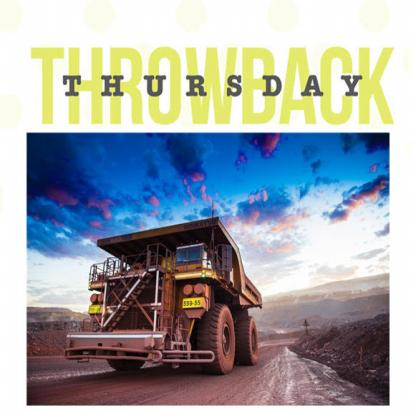dump_truck: (64, 210, 274, 368)
